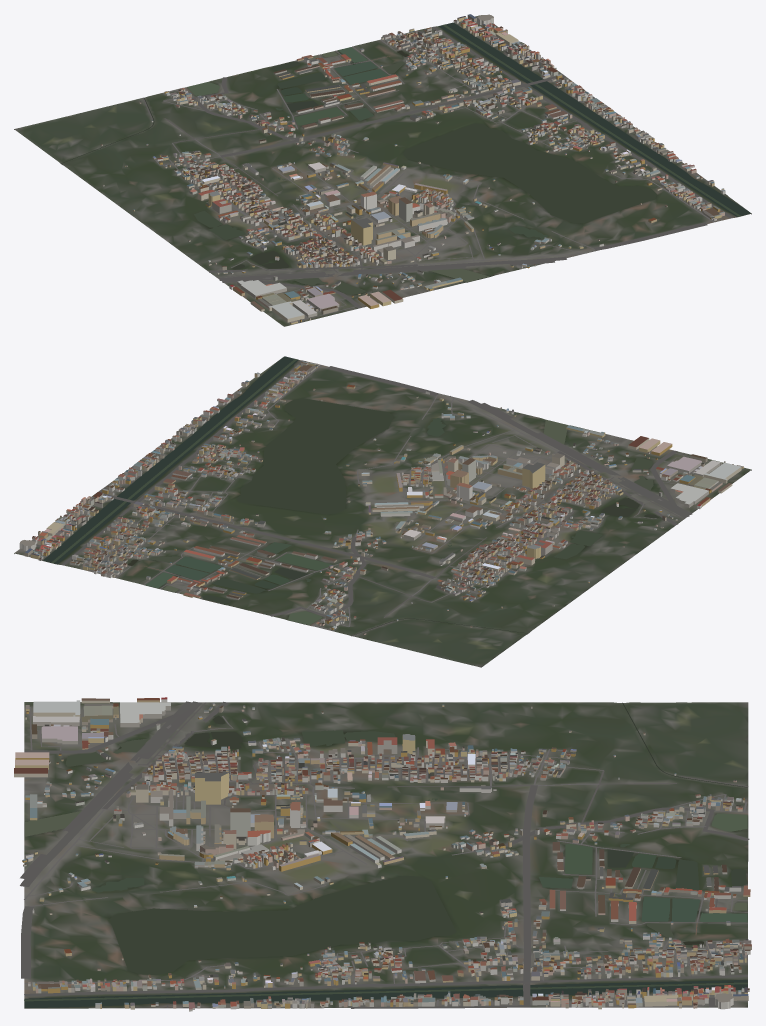
The picture shows the model from 3 angles, top to bottom: view 1: azimuth 30°, elevation 25°; view 2: azimuth 150°, elevation 25°; view 3: azimuth 270°, elevation 25°; orthographic projection. The views are drawn at different scales.
Visible parts, largest first — view 1: ground, buildings, water, roads; view 2: ground, buildings, water, roads; view 3: ground, buildings, water, roads.
Part boxes in pixels (box(x1,y1,x2,y2)): ground: box(14, 15, 751, 326); buildings: box(100, 14, 725, 324); water: box(61, 22, 750, 294); roads: box(143, 25, 733, 323); ground: box(14, 357, 751, 667); buildings: box(19, 361, 743, 634); water: box(43, 356, 658, 635); roads: box(30, 360, 741, 636); ground: box(24, 702, 748, 1008); buildings: box(14, 697, 751, 1011); water: box(24, 702, 747, 1007); roads: box(20, 701, 749, 1008).
Bounding box in the file's own units: 1418 × 56.49 × 1429.
